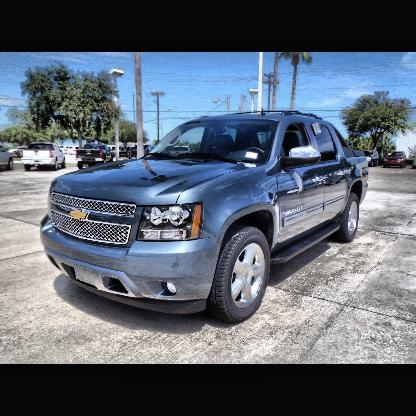Chevrolet Avalanche Crew Cab 2012: (39, 108, 372, 329)
